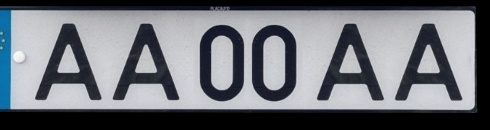0: (196, 21, 248, 105), (249, 20, 299, 105)
A: (29, 21, 104, 103), (108, 20, 182, 102), (313, 20, 386, 102), (391, 20, 464, 102)
